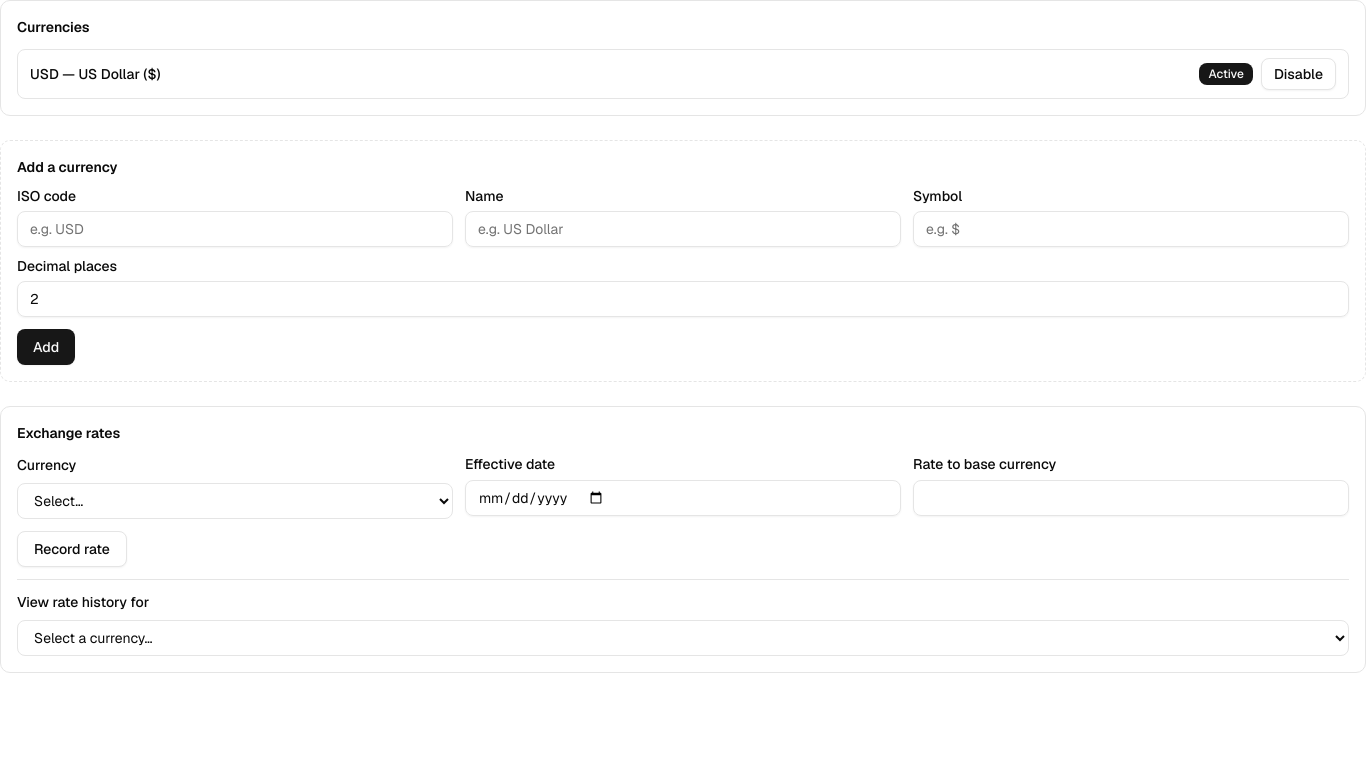
Scenario: CurrencyPanel › shows rate history once a currency is selected
Select "USD" in the dropdown labelled "View rate history for" at (683, 638), box [17, 620, 1349, 656]
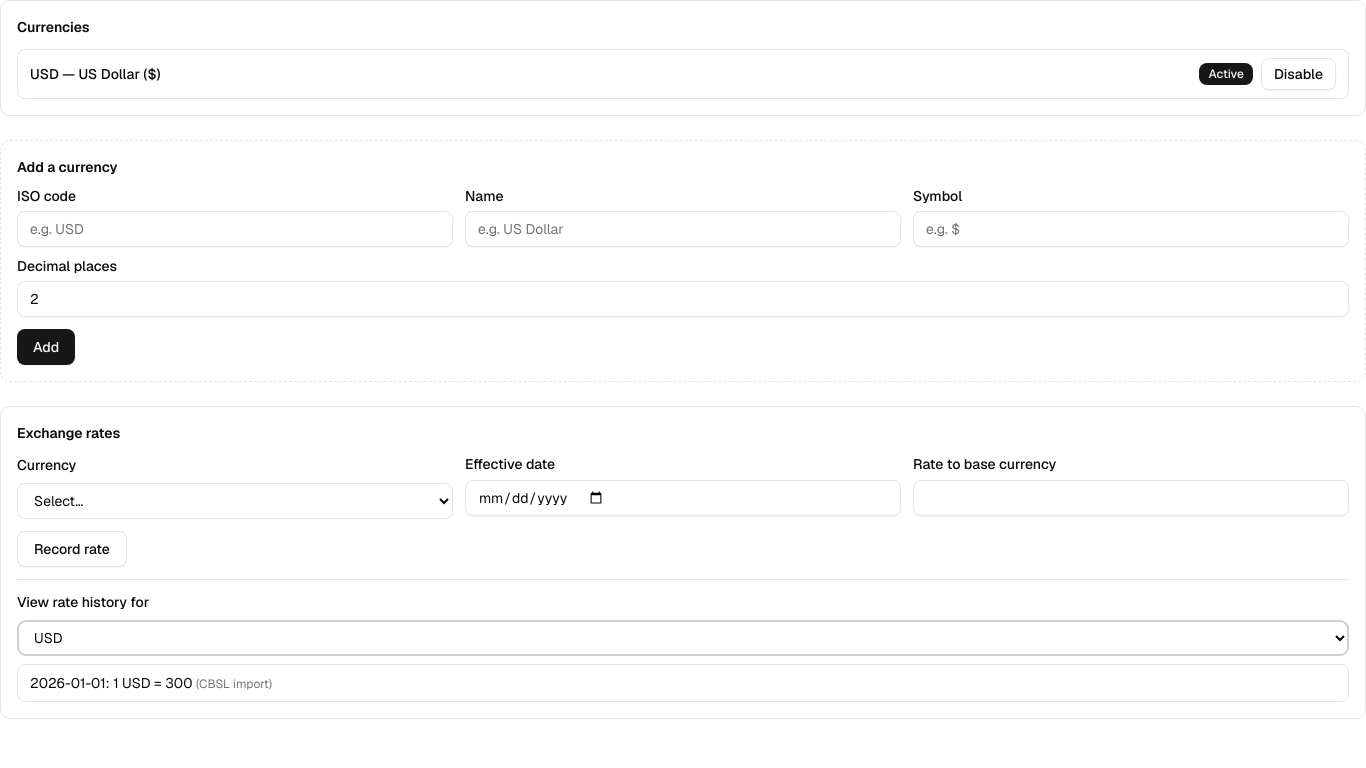
Expected: the list item "2026-01-01: 1 USD = 300 (CBSL import)" is shown, [17, 664, 1349, 702]
Expected: the text "(CBSL import)" is shown, [196, 676, 272, 692]
